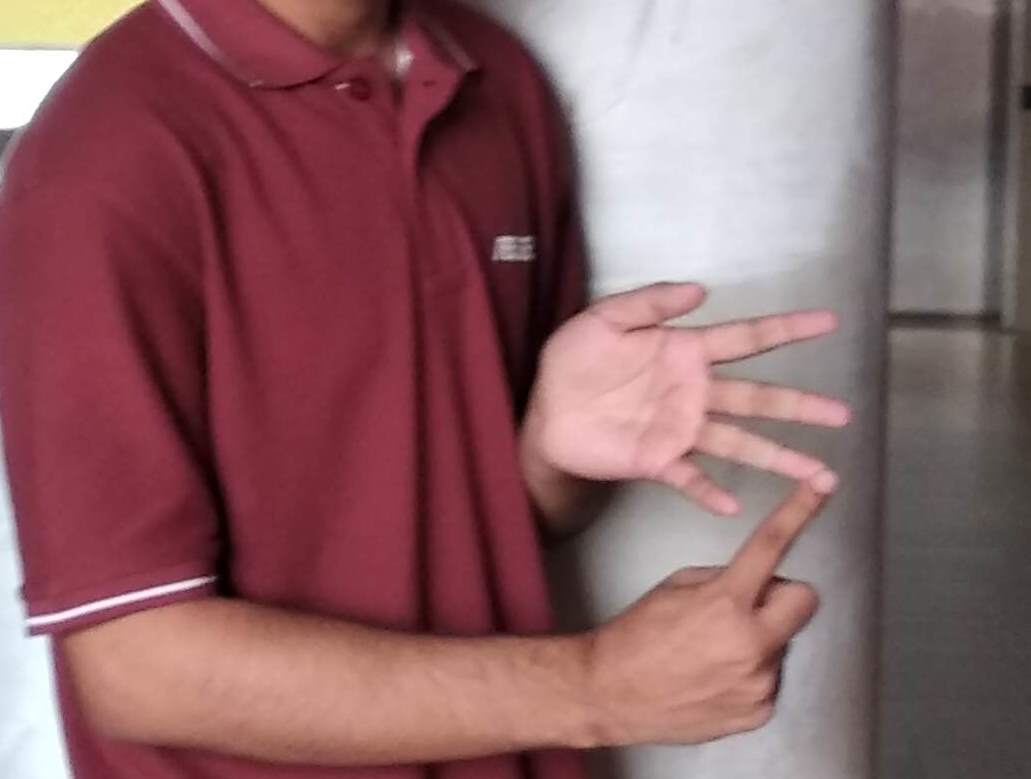e: (571, 293, 861, 649)
